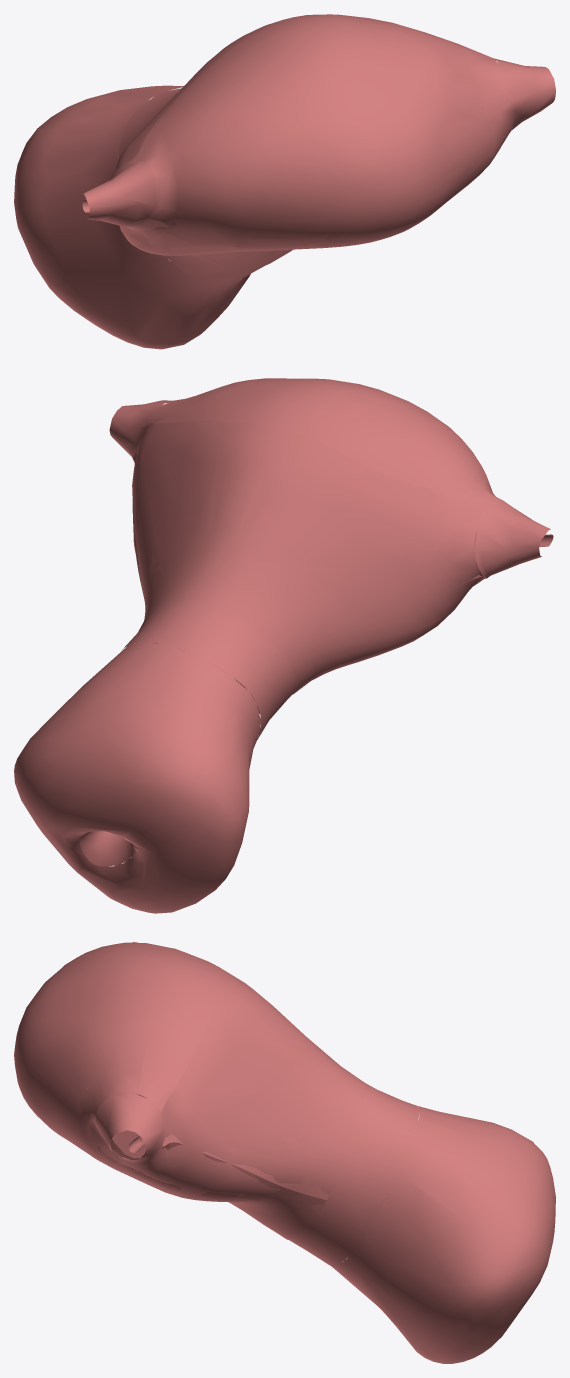
The model's file is uterus.glb.
3 renders of one model, top to bottom at view 1: azimuth 30°, elevation 25°; view 2: azimuth 150°, elevation 25°; view 3: azimuth 270°, elevation 25°, orthographic. The views are drawn at different scales.
Parts seen in each view (by area): view 1: VH_F_fundus_of_uterus, VH_F_cervix, VH_F_cornua, VH_F_posterior_wall_of_uterus, VH_F_lower_uterine_segment, VH_F_body_of_uterus; view 2: VH_F_body_of_uterus, VH_F_cervix, VH_F_fundus_of_uterus, VH_F_lower_uterine_segment, VH_F_cornua, VH_F_external_cervical_os, VH_F_anterior_wall_of_uterus; view 3: VH_F_cervix, VH_F_body_of_uterus, VH_F_fundus_of_uterus, VH_F_lower_uterine_segment, VH_F_posterior_wall_of_uterus, VH_F_cornua, VH_F_anterior_wall_of_uterus.
Boxes of the visible parts, <box> form: VH_F_fundus_of_uterus: <box>133,14,516,248</box>; VH_F_cervix: <box>14,85,250,349</box>; VH_F_cornua: <box>83,58,555,227</box>; VH_F_posterior_wall_of_uterus: <box>140,144,501,269</box>; VH_F_lower_uterine_segment: <box>119,88,263,284</box>; VH_F_body_of_uterus: <box>113,18,510,269</box>; VH_F_body_of_uterus: <box>132,420,486,694</box>; VH_F_cervix: <box>14,642,260,913</box>; VH_F_fundus_of_uterus: <box>142,378,495,513</box>; VH_F_lower_uterine_segment: <box>121,600,296,739</box>; VH_F_cornua: <box>109,400,550,577</box>; VH_F_external_cervical_os: <box>79,831,136,866</box>; VH_F_anterior_wall_of_uterus: <box>132,404,488,643</box>; VH_F_cervix: <box>332,1106,555,1363</box>; VH_F_body_of_uterus: <box>112,962,366,1212</box>; VH_F_fundus_of_uterus: <box>14,942,217,1161</box>; VH_F_lower_uterine_segment: <box>288,1083,419,1266</box>; VH_F_posterior_wall_of_uterus: <box>31,1109,326,1239</box>; VH_F_cornua: <box>95,942,164,1164</box>; VH_F_anterior_wall_of_uterus: <box>85,969,364,1200</box>.
Size of the model in its own units: 0.0525 by 0.047 by 0.0587.
